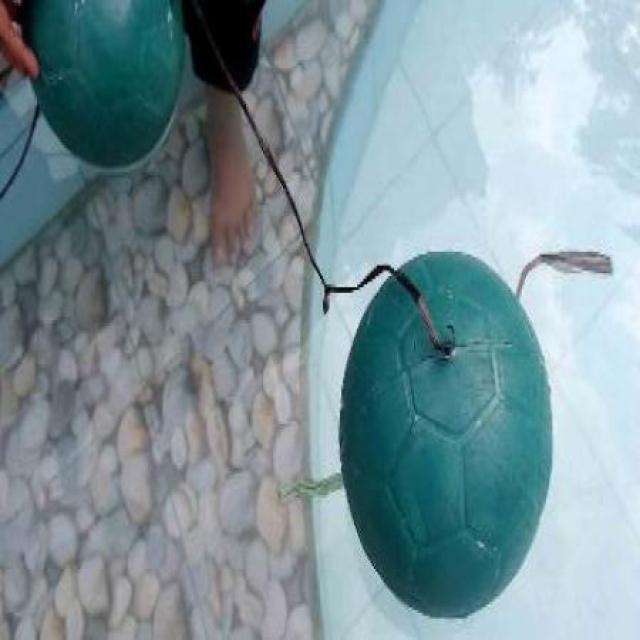buoy: (339, 252, 553, 618), (22, 0, 184, 168)
